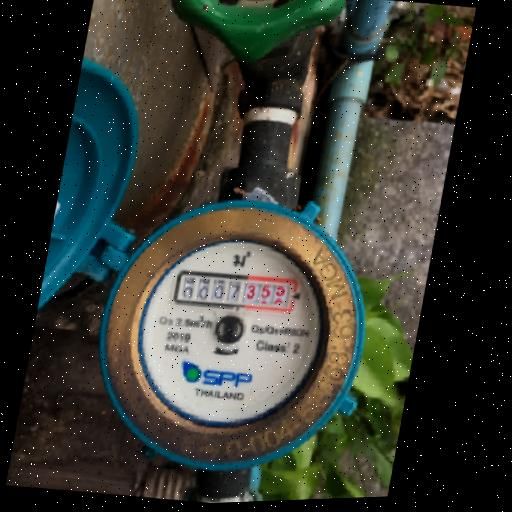0: (181, 278, 195, 299), (211, 281, 225, 302), (197, 279, 210, 301)
3: (243, 283, 258, 305)
5: (272, 286, 287, 307), (258, 285, 272, 305)
7: (227, 282, 240, 303)
border_water_meter_number: (171, 265, 300, 318)
